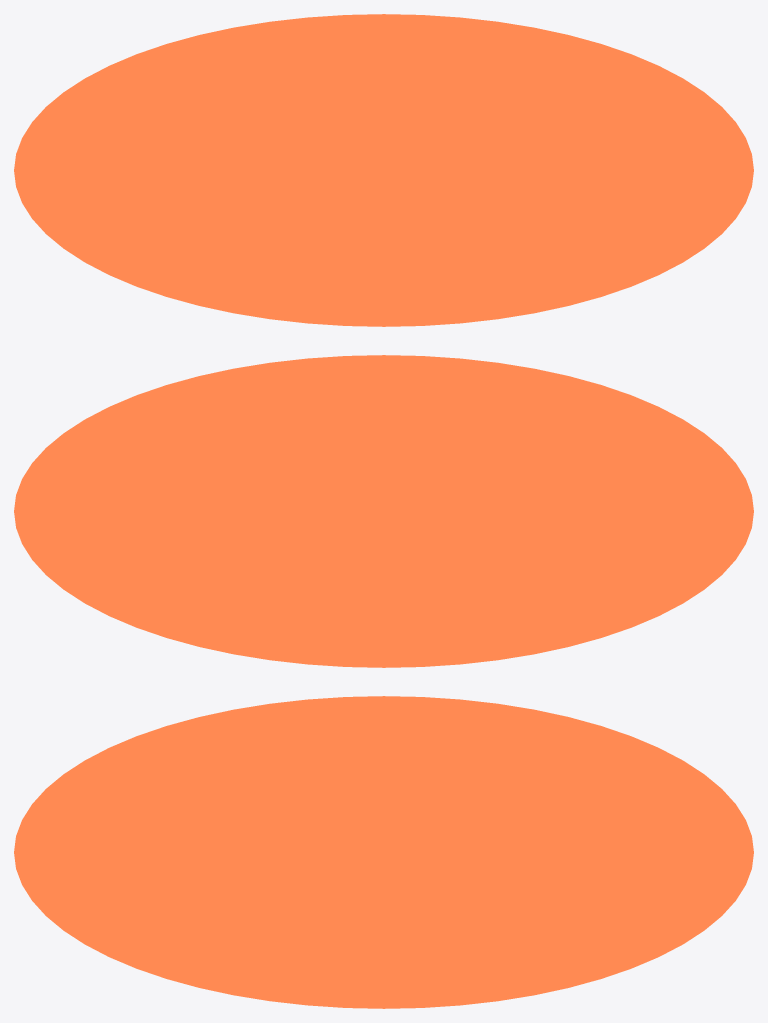
File: TVXQ_LICHT.glb
3 renders of one model, top to bottom at view 1: azimuth 30°, elevation 25°; view 2: azimuth 150°, elevation 25°; view 3: azimuth 270°, elevation 25°, orthographic.
Visible parts, largest first — view 1: TVXQ_LICHT*; view 2: TVXQ_LICHT*; view 3: TVXQ_LICHT*.
Boxes of the visible parts, box(x1,y1,x2,y2) form: TVXQ_LICHT*: box(14, 14, 753, 326); TVXQ_LICHT*: box(14, 355, 753, 667); TVXQ_LICHT*: box(14, 696, 753, 1008).
Size of the model in its own units: 0.1074 by 5.18e-07 by 0.1074.
